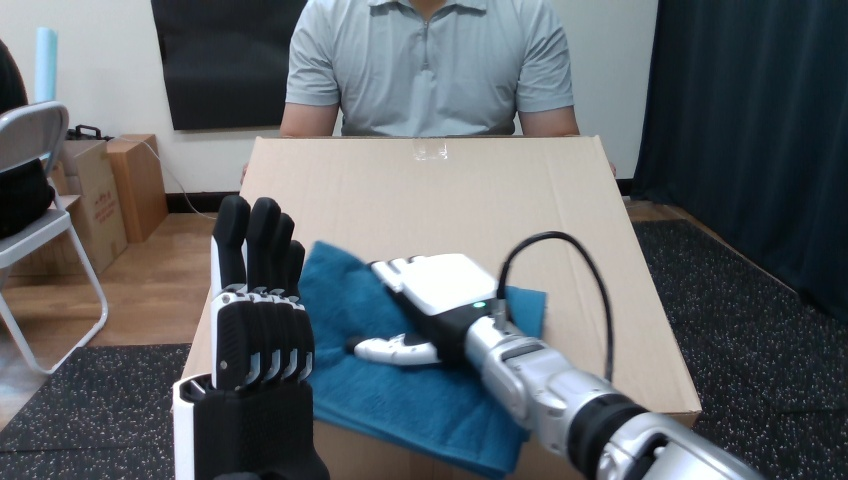left robot hand: (347, 232, 760, 479), (173, 196, 328, 479), (503, 237, 609, 380)
